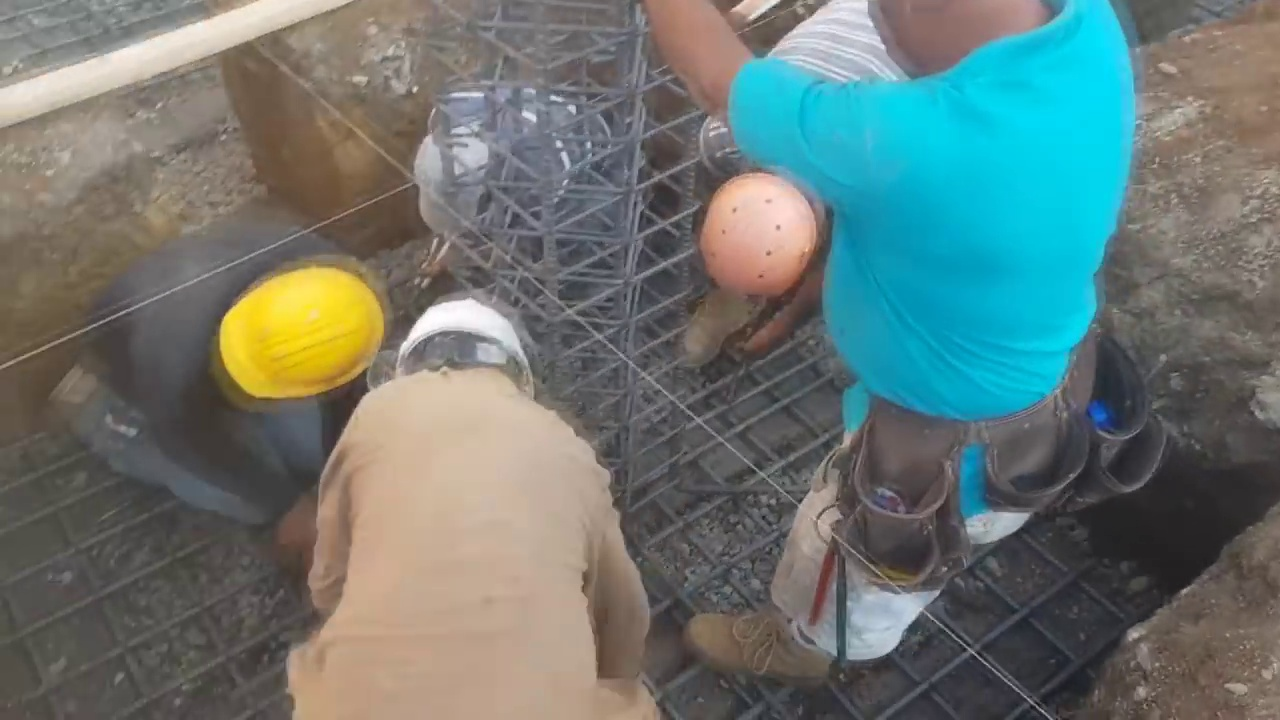helmet: (218, 270, 387, 401), (704, 168, 825, 320), (394, 298, 536, 383)
helmet-off: (410, 118, 507, 245)
helmet-on: (203, 257, 385, 410), (393, 292, 537, 406)
person: (678, 0, 1166, 694), (286, 293, 656, 719), (35, 198, 388, 531), (682, 3, 914, 383), (410, 80, 614, 267)
